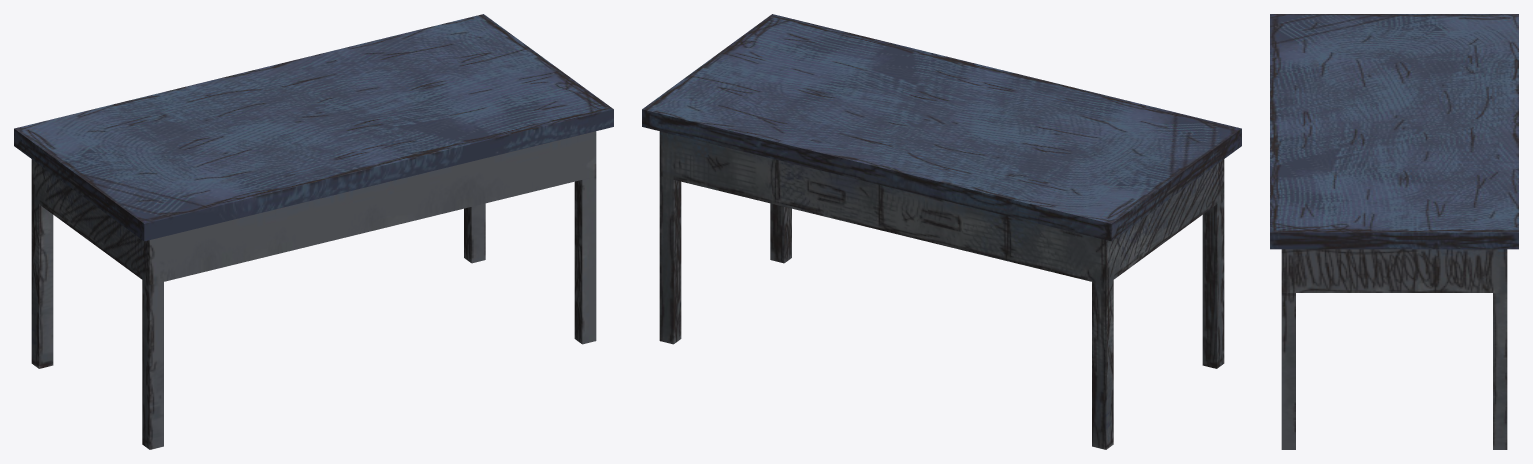
File: stol.fbx
3 views of the same model, side by side, from view 1: azimuth 30°, elevation 25°; view 2: azimuth 150°, elevation 25°; view 3: azimuth 270°, elevation 25° (orthographic). The views are drawn at different scales.
Visible parts, largest first — view 1: Window.001; view 2: Window.001; view 3: Window.001.
Part boxes in pixels (bbox=[...]): Window.001: bbox=[14, 14, 613, 449]; Window.001: bbox=[642, 14, 1241, 449]; Window.001: bbox=[1270, 14, 1518, 449].
Size of the model in its own units: 178 by 84.25 by 85.31.
